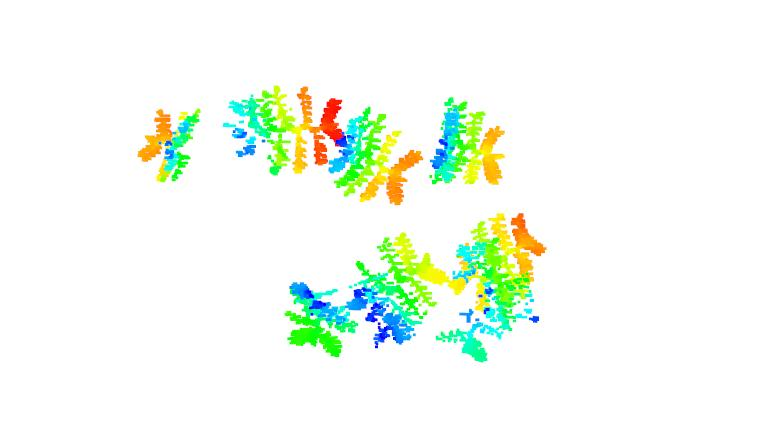chickpea: (283, 231, 443, 361), (437, 210, 548, 366), (224, 83, 346, 175), (332, 109, 427, 205), (427, 94, 515, 190), (135, 105, 203, 181)
